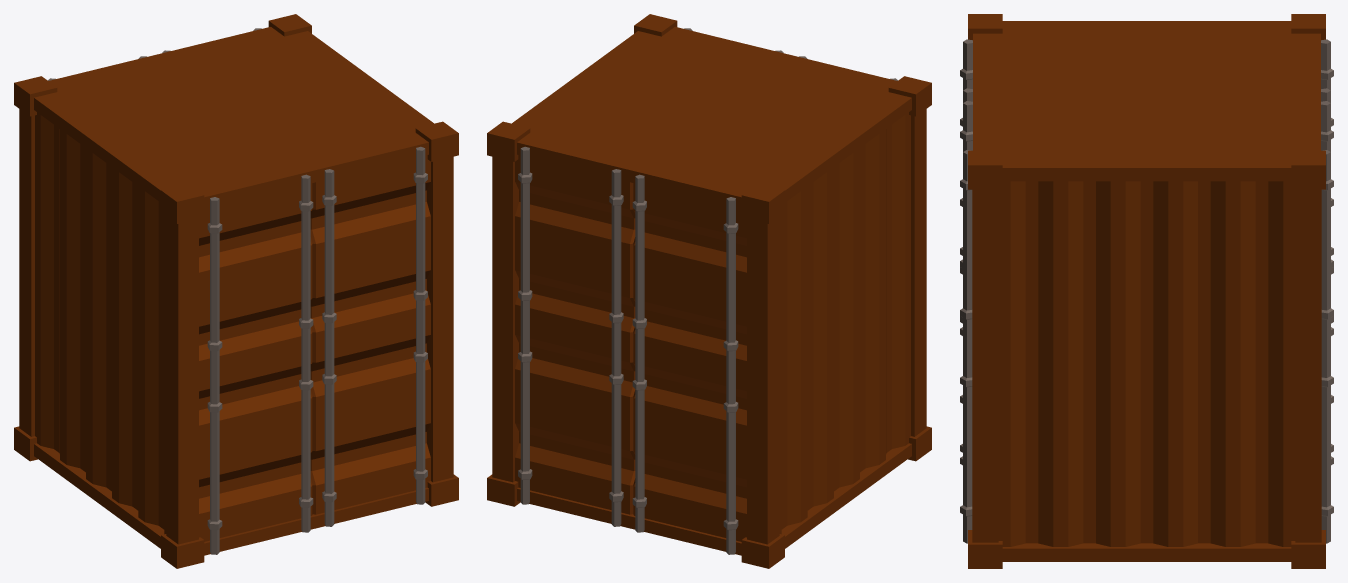
File: LP_PostApoc_2x2_ShippingContainer.fbx
3 views of the same model, side by side, from view 1: azimuth 30°, elevation 25°; view 2: azimuth 150°, elevation 25°; view 3: azimuth 270°, elevation 25° (orthographic). The views are drawn at different scales.
Visible parts, largest first — view 1: 2x2_ShippingContainer; view 2: 2x2_ShippingContainer; view 3: 2x2_ShippingContainer.
Part boxes in pixels (left/top/right/bottom): 2x2_ShippingContainer: left=14, top=14, right=458, bottom=568; 2x2_ShippingContainer: left=487, top=14, right=931, bottom=568; 2x2_ShippingContainer: left=960, top=14, right=1333, bottom=568.
Bounding box in the file's own units: 206 × 256 × 215.
